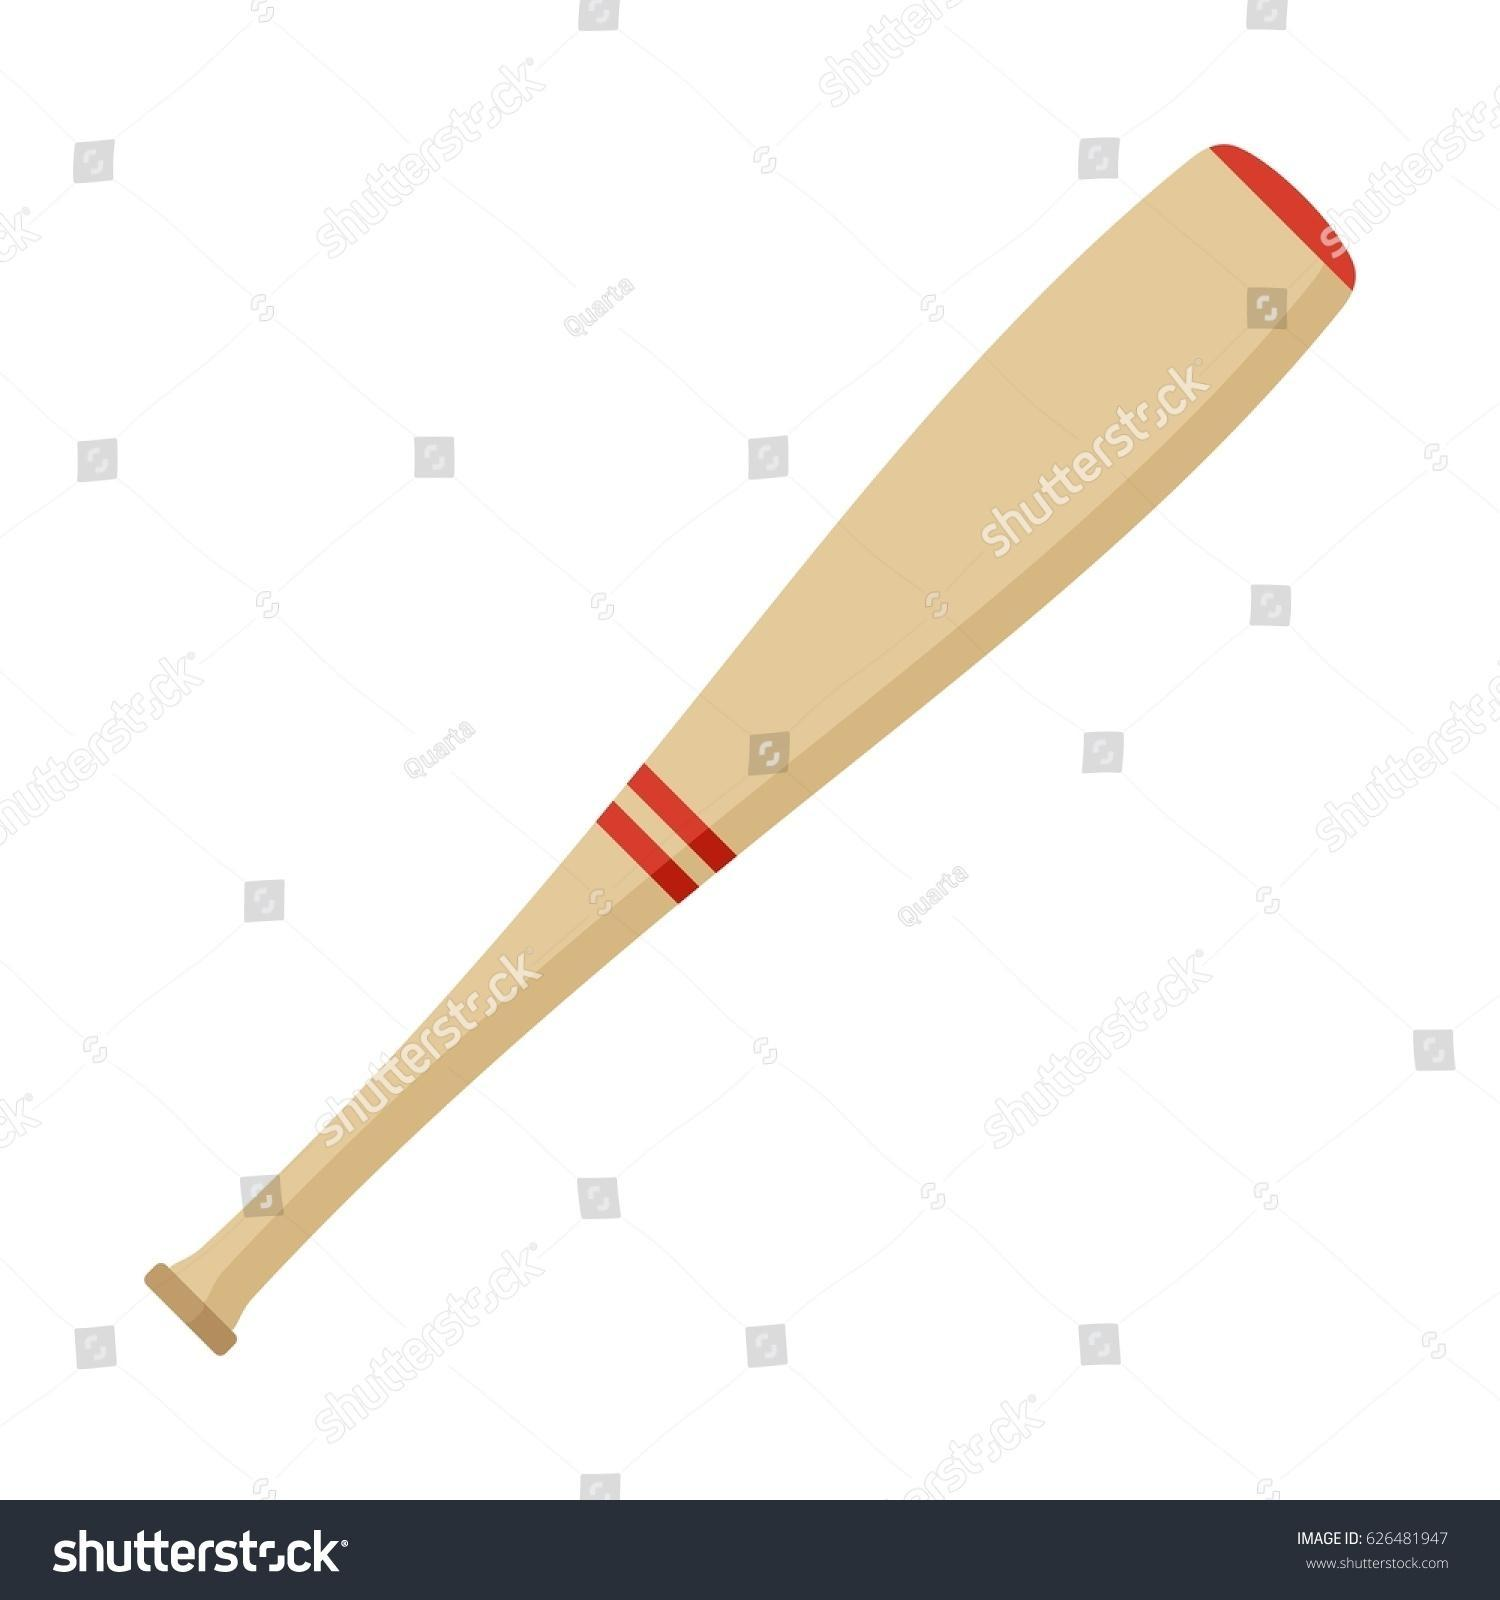Baseball-Bat: (142, 127, 1351, 1414)
